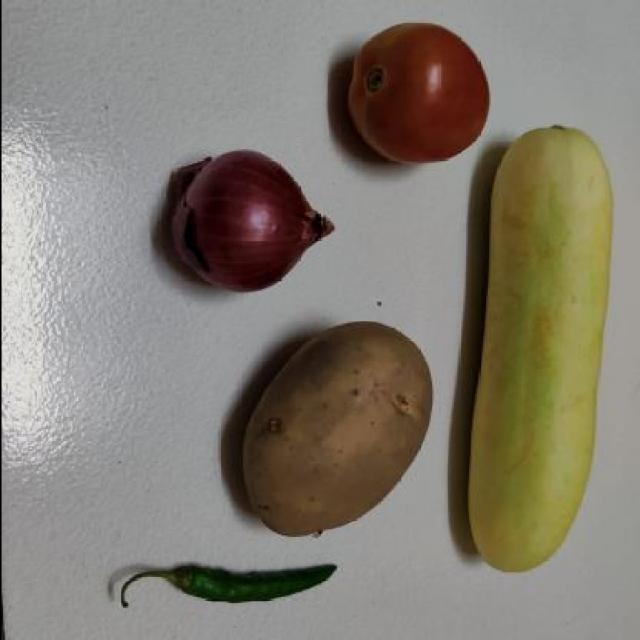Onion: (146, 149, 357, 311)
Potato: (221, 310, 437, 544), (84, 554, 350, 623)
Tomato: (338, 0, 498, 169)
cucumber: (462, 120, 616, 612)
